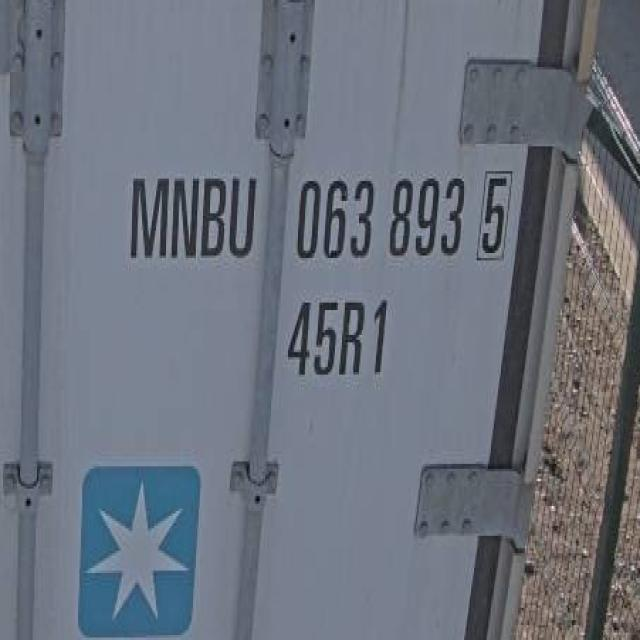dv: (475, 167, 514, 264)
owner: (127, 156, 260, 273)
serial: (293, 162, 467, 268)
size: (282, 286, 393, 380)
